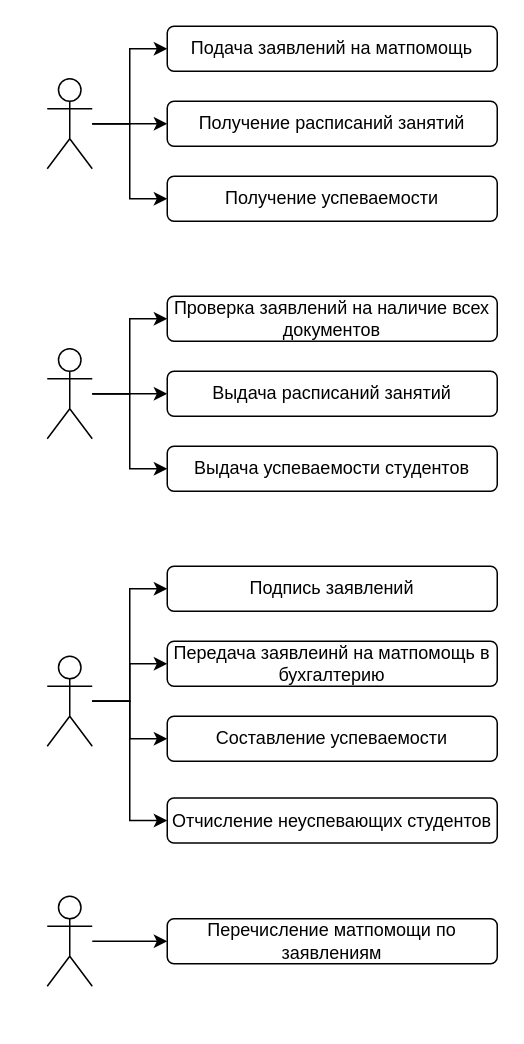
The diagram is 524 pixels wide and 1044 high, and some of its shapes have lost their labels. Here are the shapes that lost their labels. From the top down, the centre of each, then its label:
At pixel 69 123: "Студент".
At pixel 69 393: "Секретарь".
At pixel 69 700: "Декан".
At pixel 69 940: "Бухгалтер".
